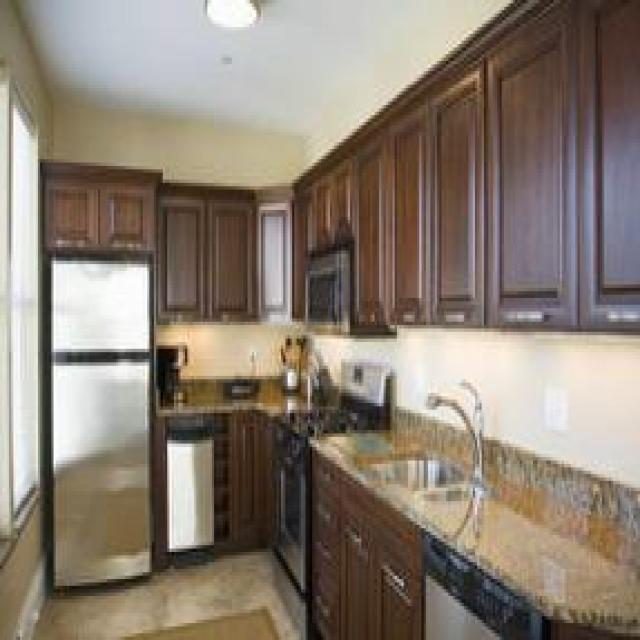dishwasher: (165, 410, 212, 555)
